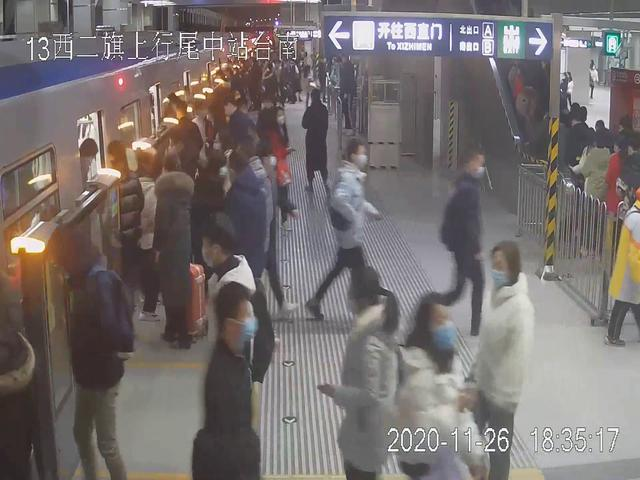person: (54, 233, 135, 480), (189, 215, 255, 480), (393, 290, 481, 480), (474, 233, 540, 480), (332, 260, 402, 480), (308, 133, 386, 324), (426, 135, 495, 335), (196, 282, 262, 480), (151, 149, 199, 352), (298, 84, 331, 202)
